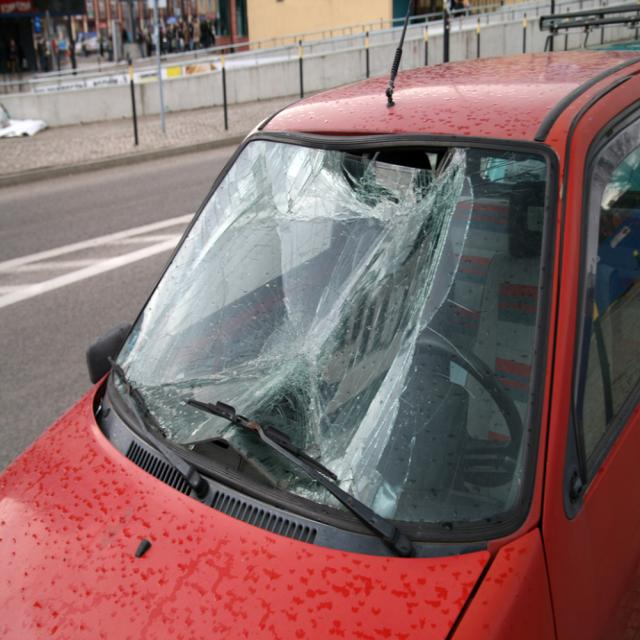Windshield: (145, 122, 510, 506)
